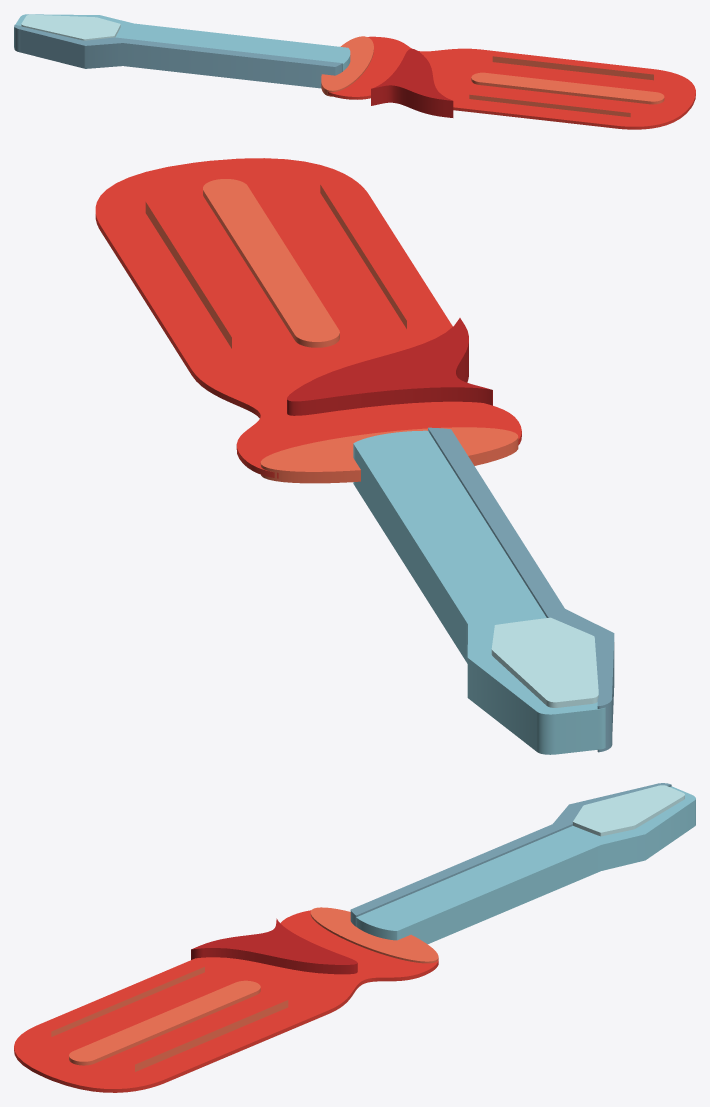
File: emoji_u1fa9b.glb
The picture shows the model from 3 angles, top to bottom: view 1: azimuth 30°, elevation 25°; view 2: azimuth 150°, elevation 25°; view 3: azimuth 270°, elevation 25°; orthographic projection. The views are drawn at different scales.
Parts seen in each view (by area): view 1: emoji_u1fa9b; view 2: emoji_u1fa9b; view 3: emoji_u1fa9b.
Boxes of the visible parts, x1=… form: emoji_u1fa9b: x1=14, y1=14, x2=695, y2=129; emoji_u1fa9b: x1=95, y1=158, x2=614, y2=754; emoji_u1fa9b: x1=14, y1=783, x2=695, y2=1092.
Bounding box in the file's own units: 0.0336 × 0.0018 × 0.033.
